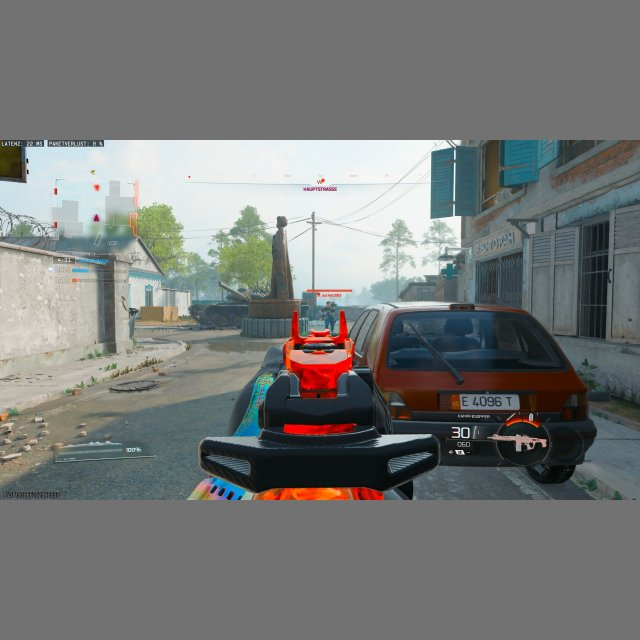player: (321, 299, 338, 333)
